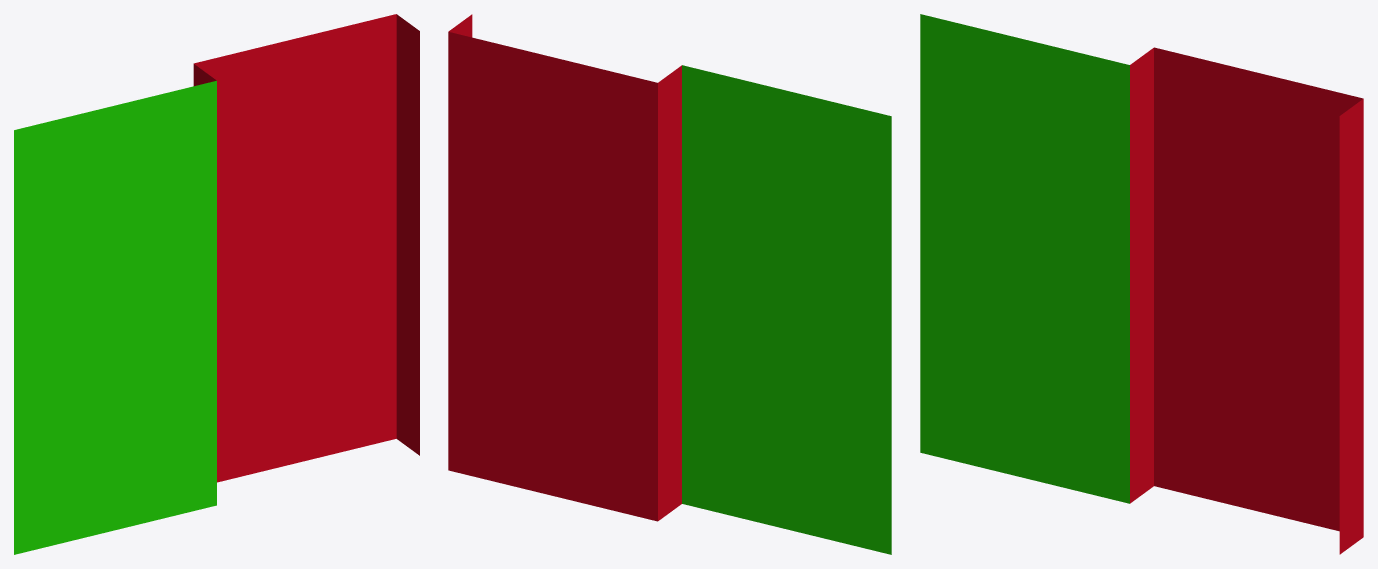
The model's file is example_wall.glb.
3 renders of one model, left to right at view 1: azimuth 30°, elevation 25°; view 2: azimuth 150°, elevation 25°; view 3: azimuth 330°, elevation 25°, orthographic. The views are drawn at different scales.
Visible parts, largest first — view 1: Grid; view 2: Grid; view 3: Grid.
Part boxes in pixels (x1,y1,x2,y2): Grid: (14, 14, 419, 554); Grid: (448, 14, 891, 554); Grid: (920, 14, 1363, 554).
Size of the model in its own units: 1 by 1 by 0.1.
